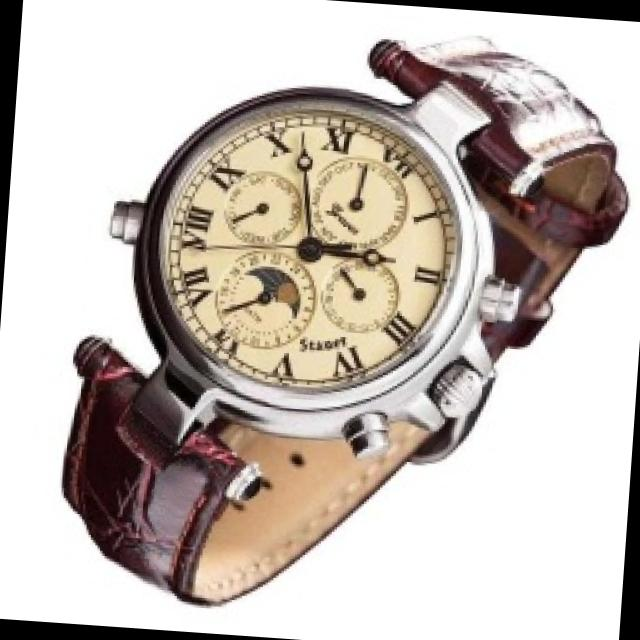saat: (42, 0, 640, 638)
